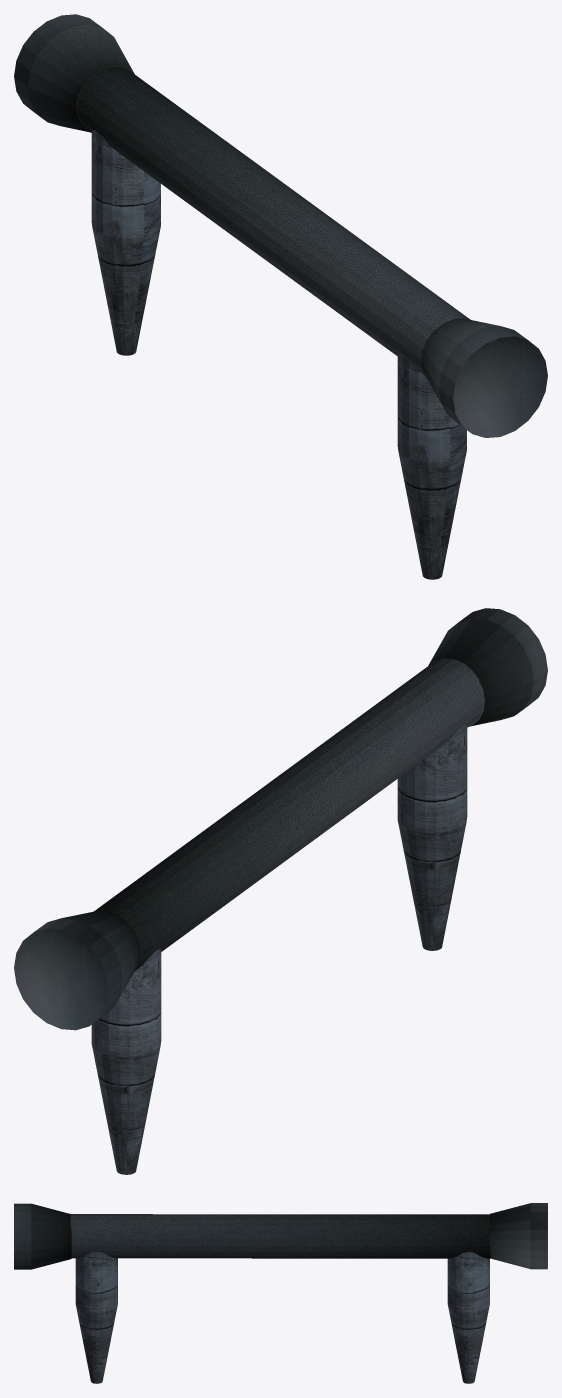
File: pipe.glb
3 renders of one model, top to bottom at view 1: azimuth 30°, elevation 25°; view 2: azimuth 150°, elevation 25°; view 3: azimuth 270°, elevation 25°, orthographic. The views are drawn at different scales.
Parts seen in each view (by area): view 1: Silindir (×5); view 2: Silindir (×5); view 3: Silindir (×5).
Part boxes in pixels (<box>): Silindir (×5): <box>14,14,547,579</box>; Silindir (×5): <box>14,608,547,1174</box>; Silindir (×5): <box>14,1203,547,1383</box>.
Size of the model in its own units: 0.1259 by 0.3649 by 1.01.
5 materials, 5 textured.
